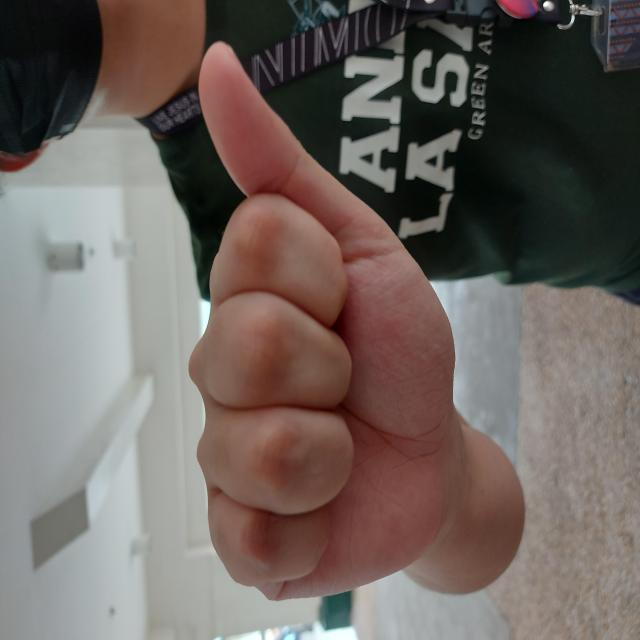A: (37, 185, 600, 457)
